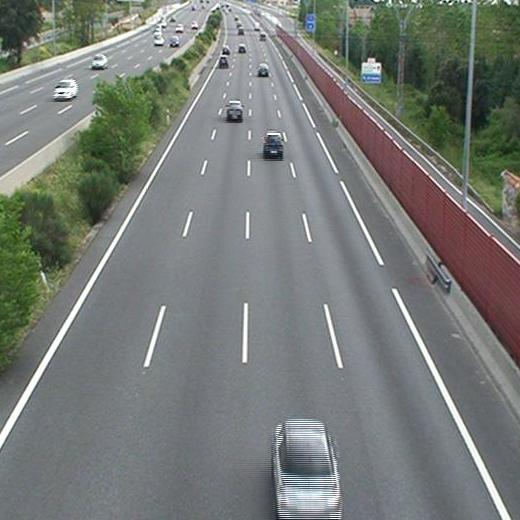car: (273, 422, 340, 519), (264, 133, 283, 156), (226, 101, 243, 118), (258, 63, 269, 76), (219, 57, 228, 66), (238, 44, 245, 55)
